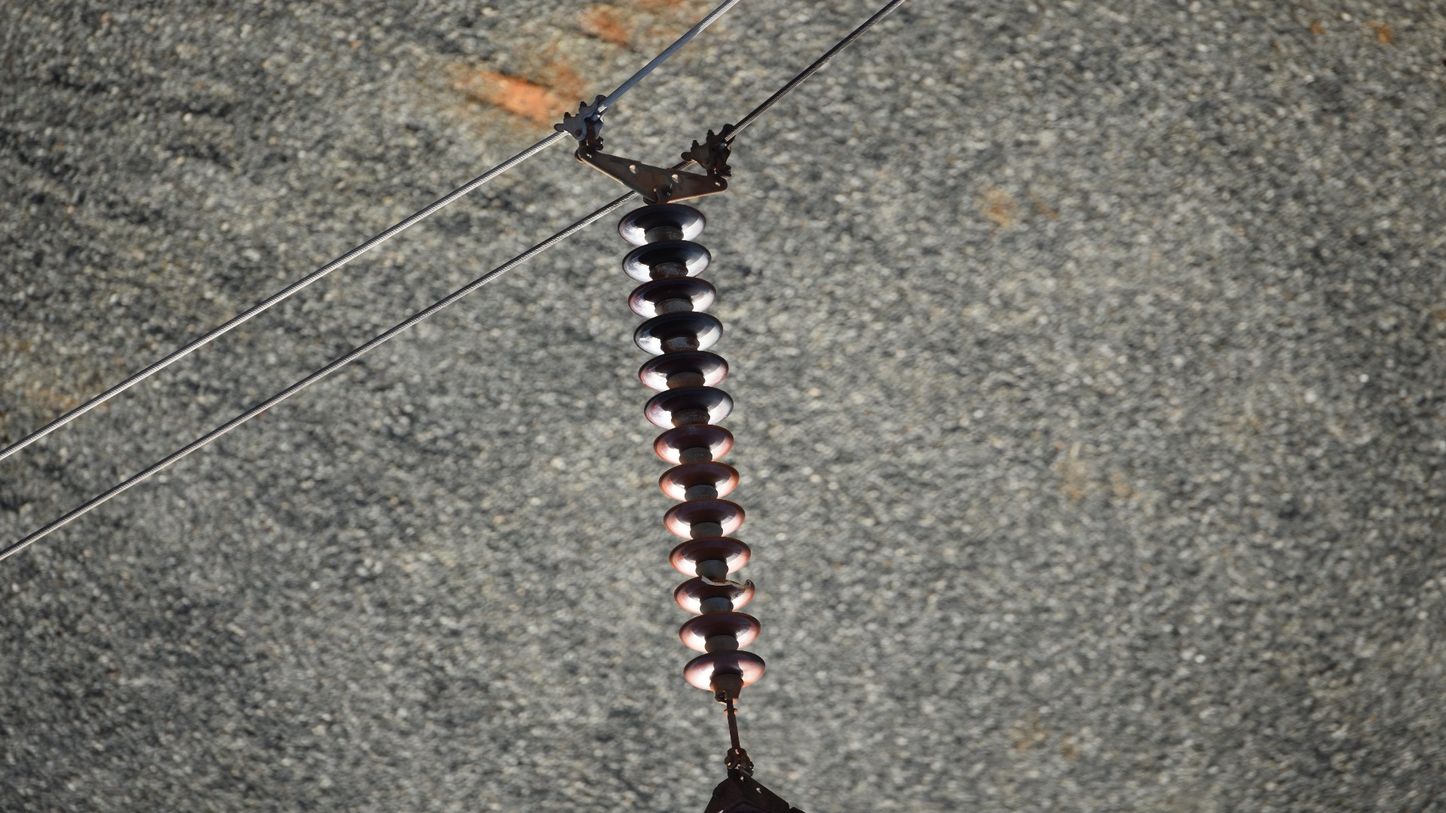insulator: (613, 198, 771, 699)
insulator_breakage: (697, 572, 755, 591)
